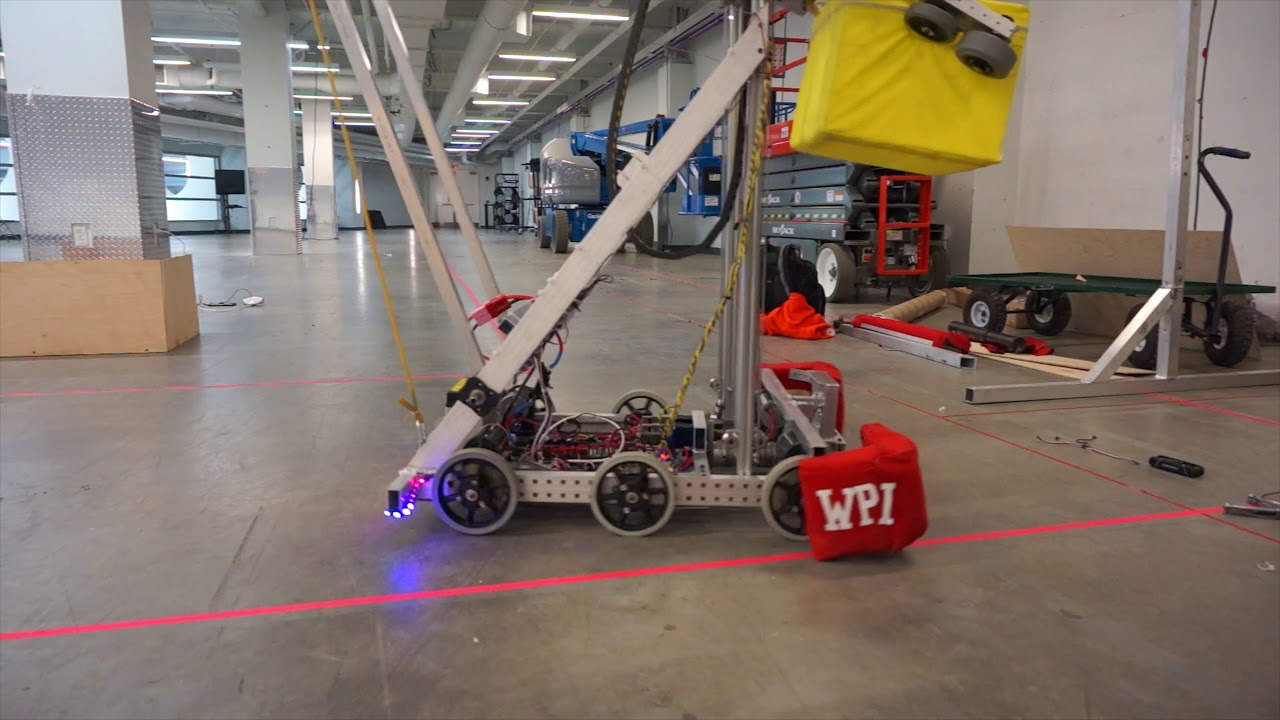cube: (788, 1, 1032, 180)
